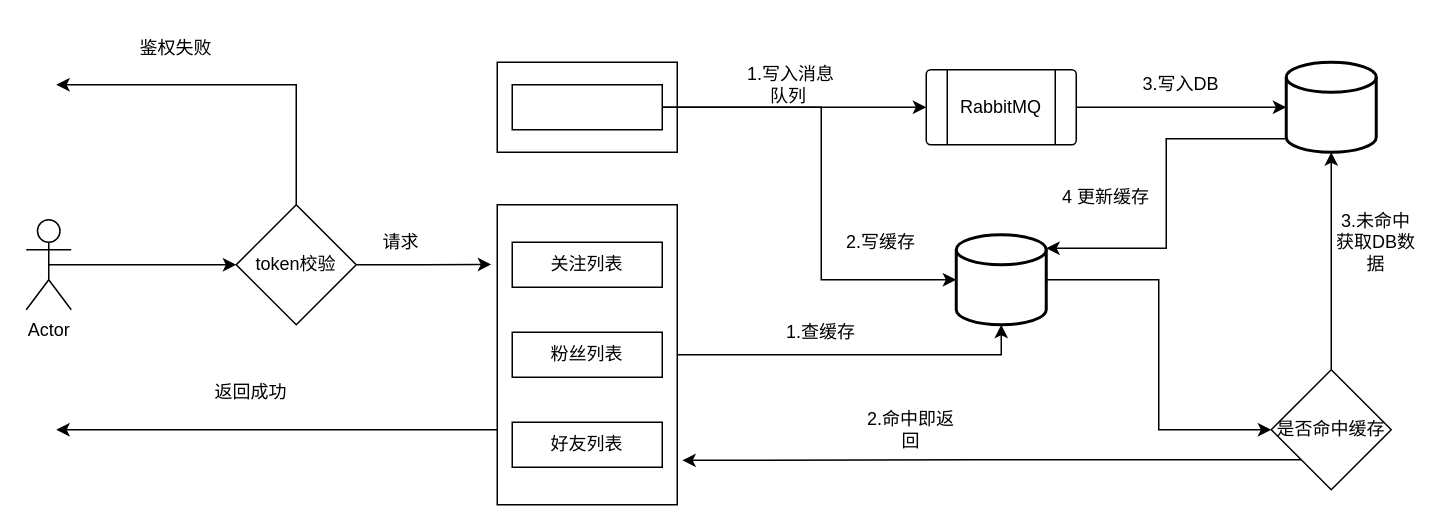
The diagram is 1448 pixels wide and 531 high, and some of its shapes have lost their labels. The centre of each missing label's shape, as x and y in pixels:
"MySQL" goes at point 1330,106.
"Redis" goes at point 1000,279.
"关注/取关" goes at point 586,106.
